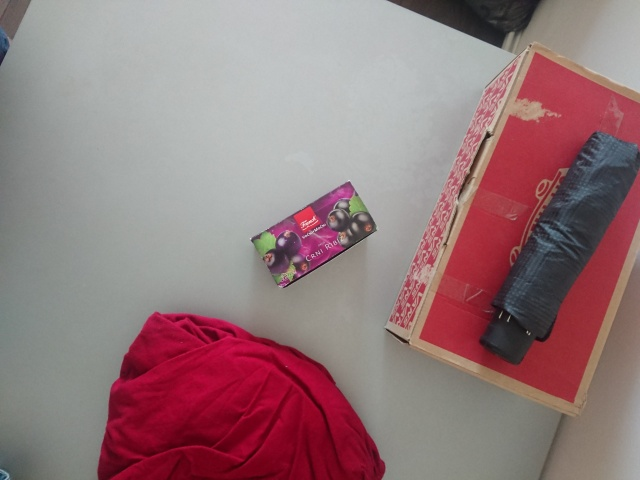Franck Black Currant Tea 60g: (247, 177, 381, 290)
